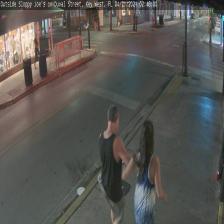person: (121, 120, 166, 223), (98, 104, 132, 224)
